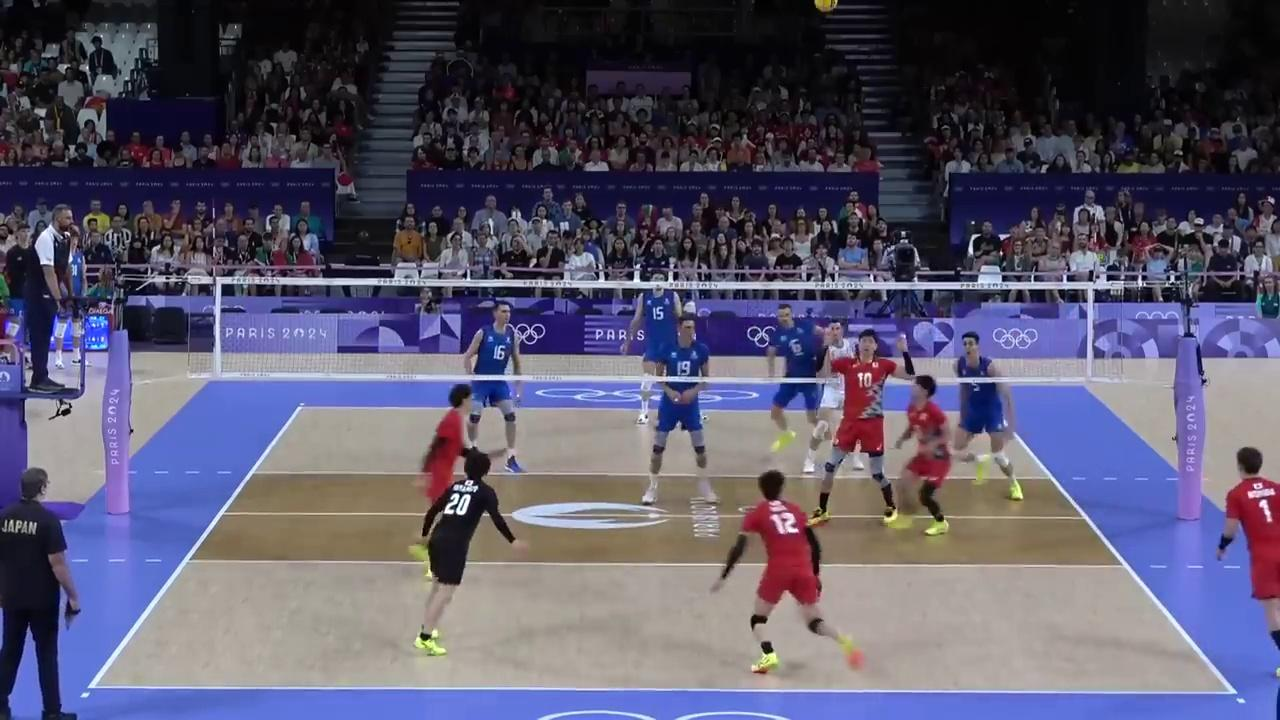ball: (814, 0, 839, 12)
